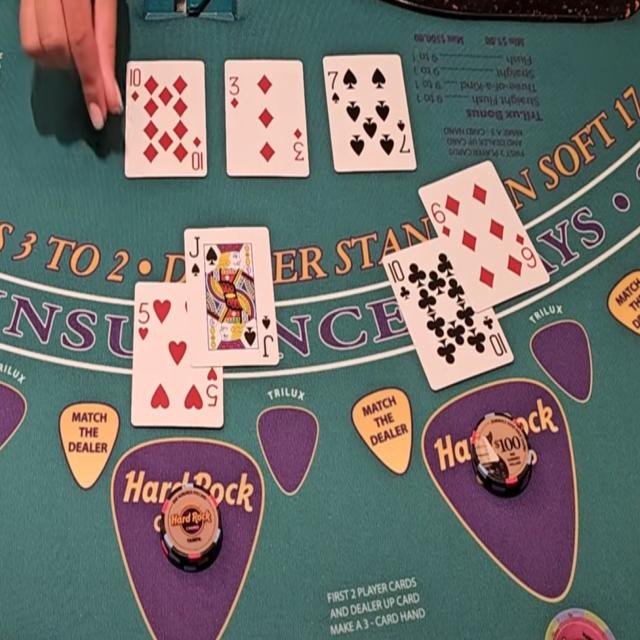10: (386, 258, 406, 284), (128, 67, 143, 90)
3: (227, 72, 242, 97)
5: (135, 299, 153, 327)
6: (429, 198, 447, 224)
7: (326, 68, 340, 92)
J: (186, 234, 202, 261)
